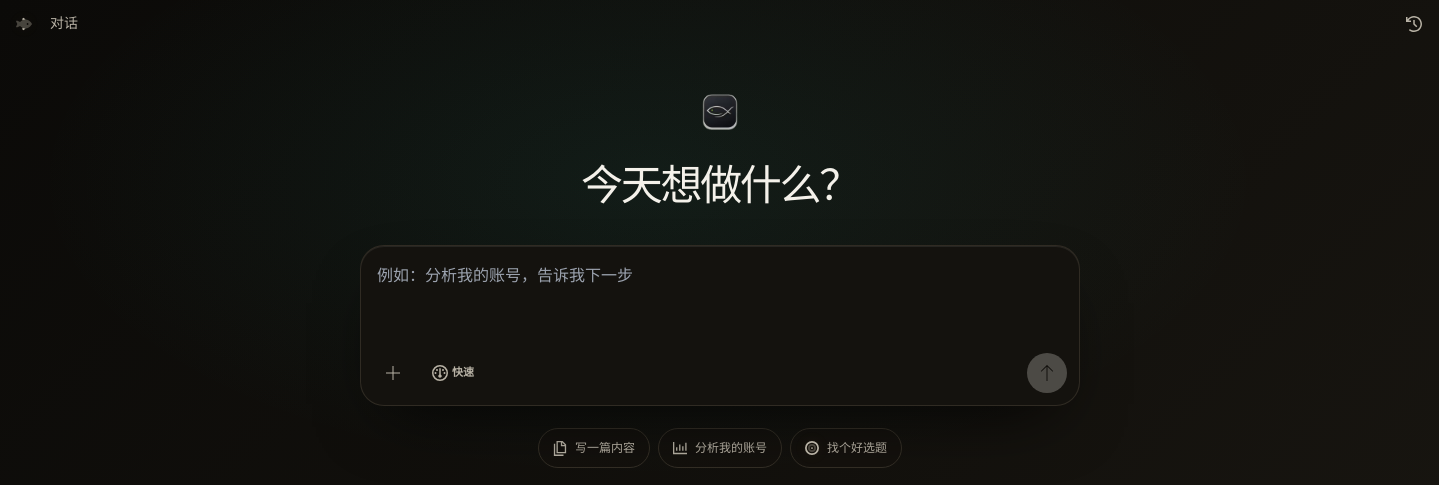
it: AgentAutomationCenter recovery › offers a retry when the stream is cut off mid-run
Step 1. Type "分析账号" into the text box with placeholder "例如：分析我的账号，告诉我下一步" → [720, 300], box [373,258,1067,342]
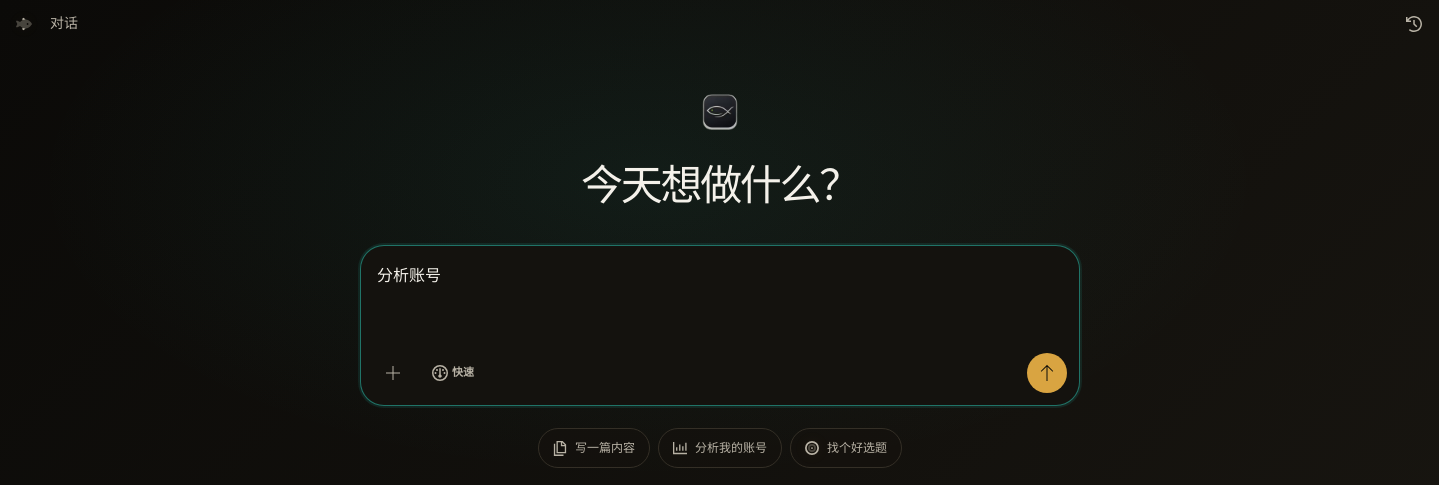
Step 2. Click the button named "发送" → [1047, 372], box [1027,352,1067,392]
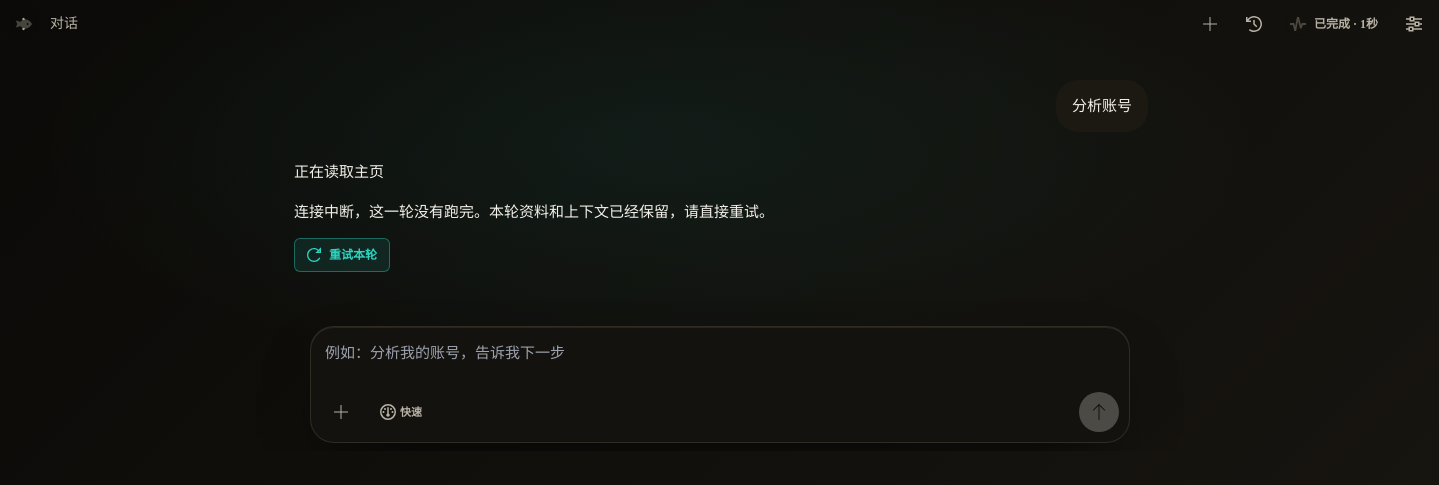
Result: the text "连接中断，这一轮没有跑完。本轮资料和上下文已经保留，请直接重试。" is shown at [294,204,774,220]
Result: the button "重试本轮" is shown at [294,238,390,272]
